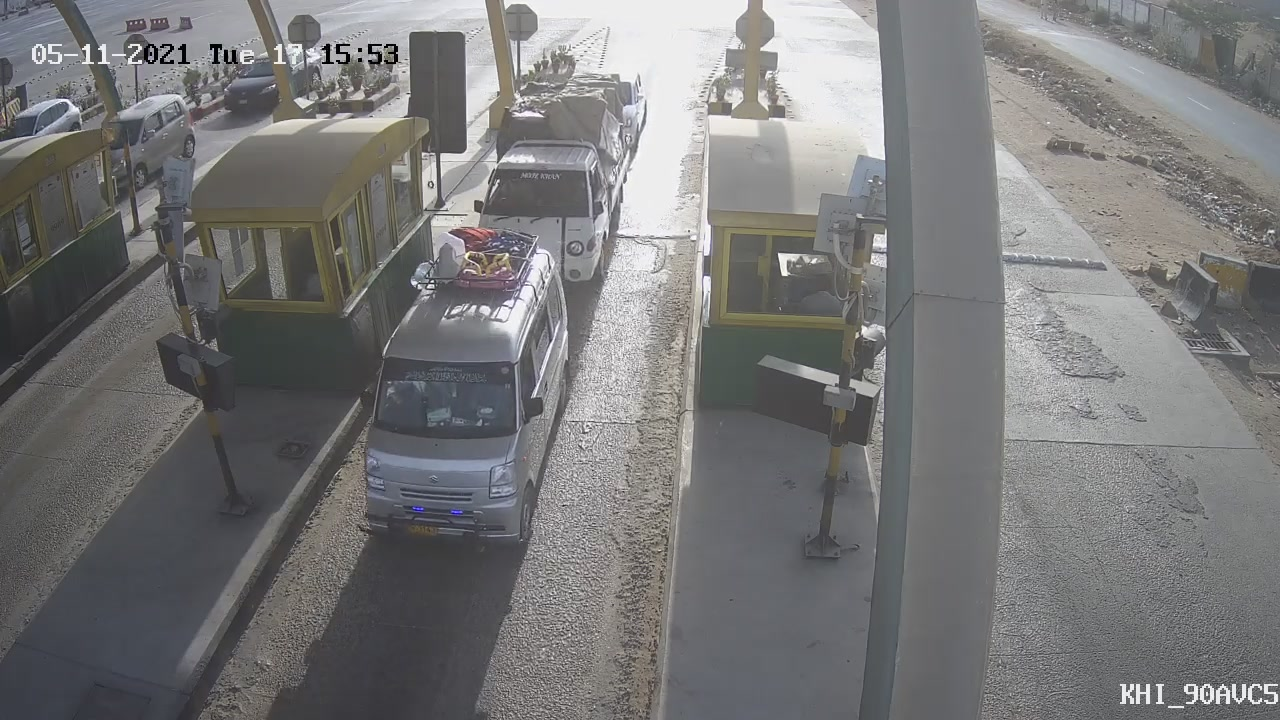F1: (344, 218, 579, 577)
